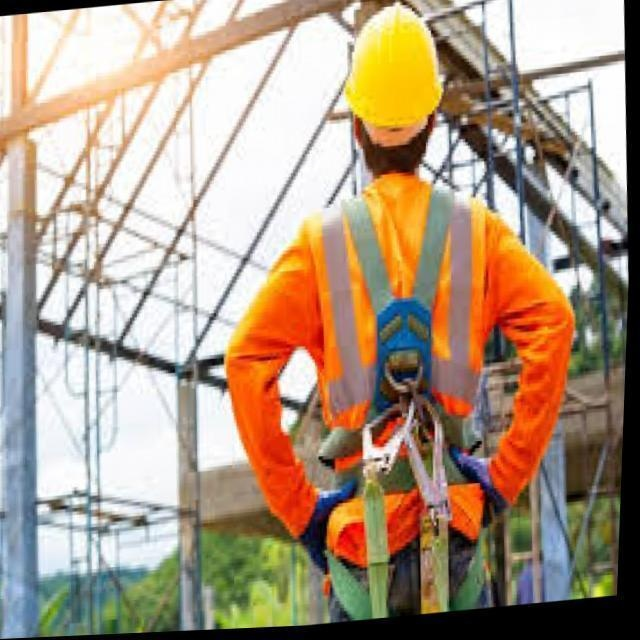Arnes_seguridad: (323, 189, 492, 569)
